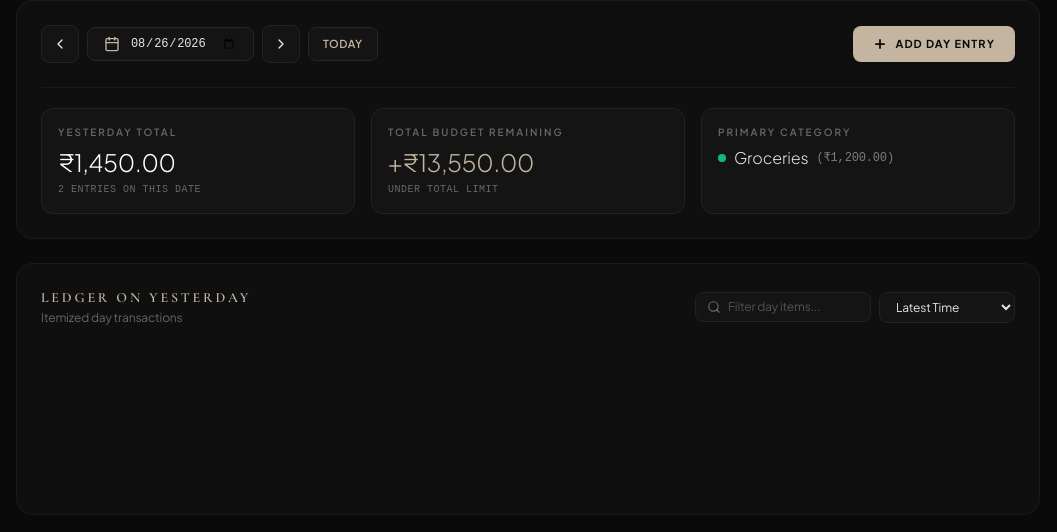
Test: DailyView Component › filters expenses correctly when user types search query
Type "Starbucks" into the field with placeholder "Filter day items...". click: [783, 307]
box: [695, 292, 871, 322]
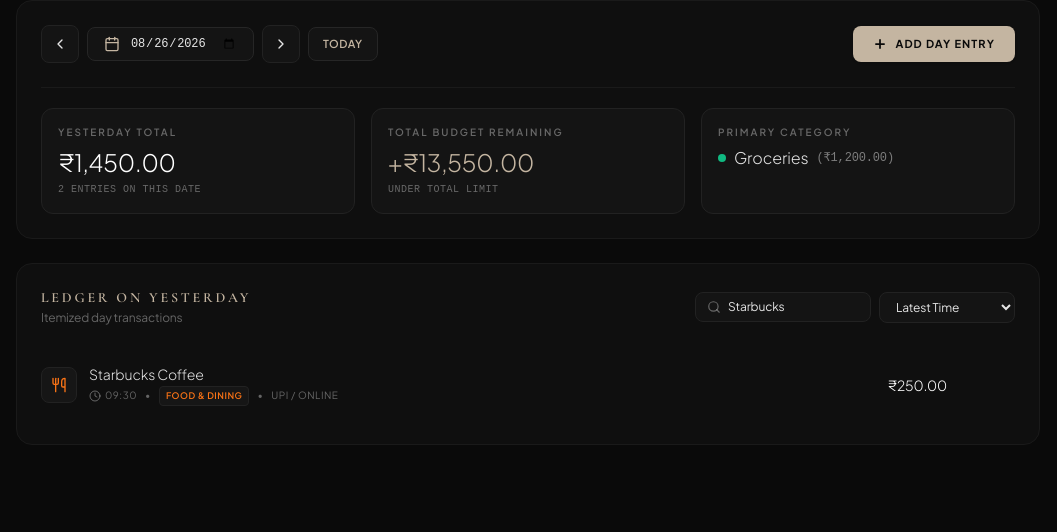
Expected: the text "Starbucks Coffee" is shown, [89, 365, 204, 383]
